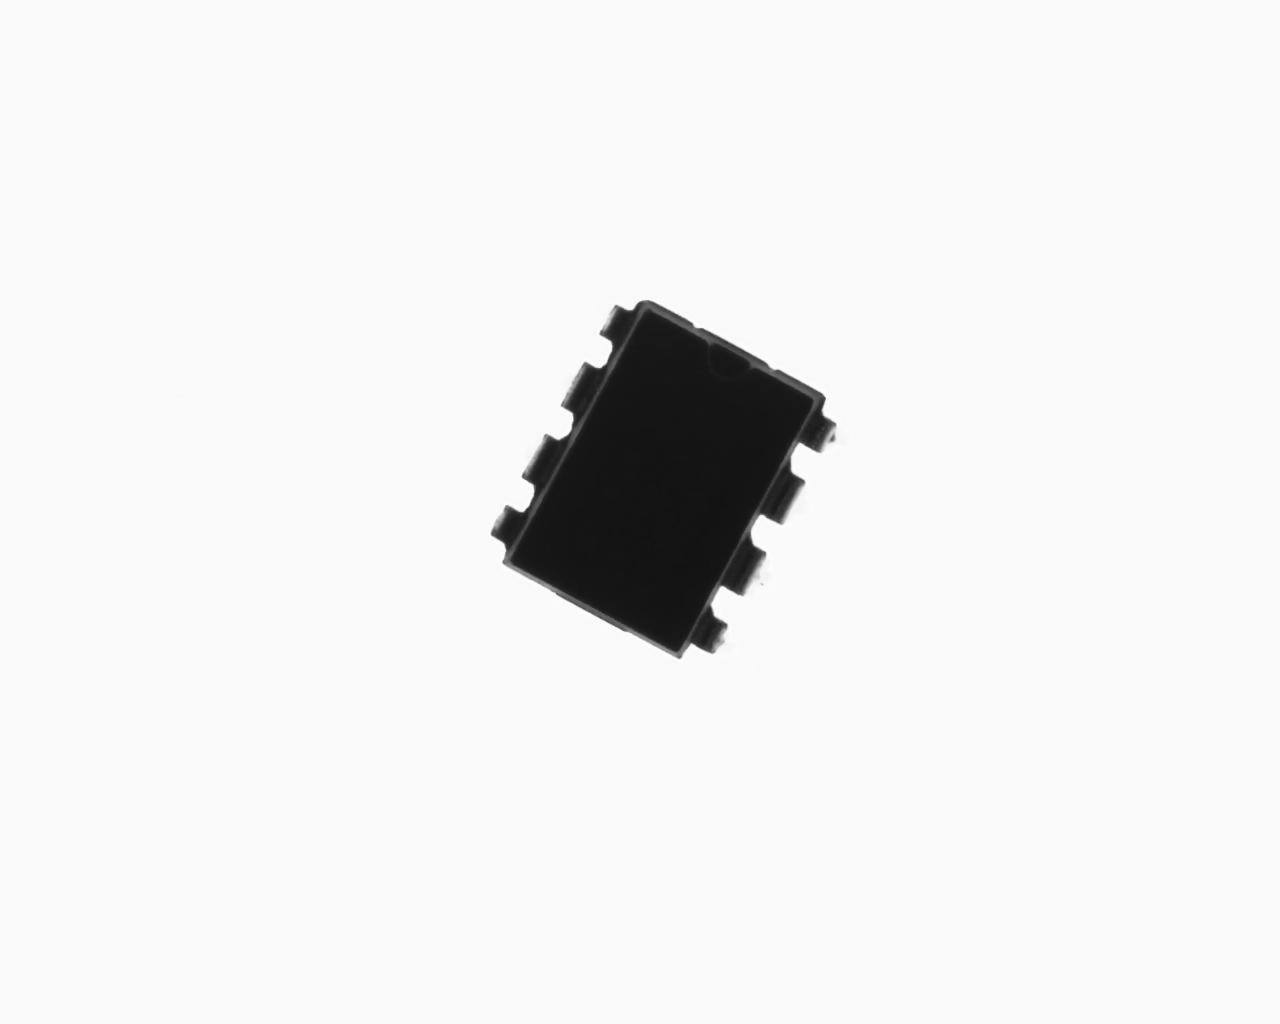Leg: (487, 418, 563, 487), (548, 353, 613, 420), (671, 591, 730, 658), (795, 387, 845, 463), (730, 535, 778, 602), (761, 462, 810, 527), (577, 295, 637, 347), (470, 496, 537, 543)
